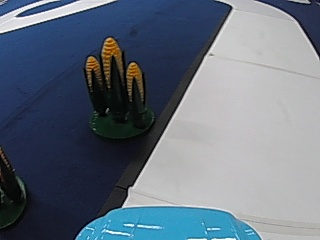corn: (82, 34, 155, 141)
